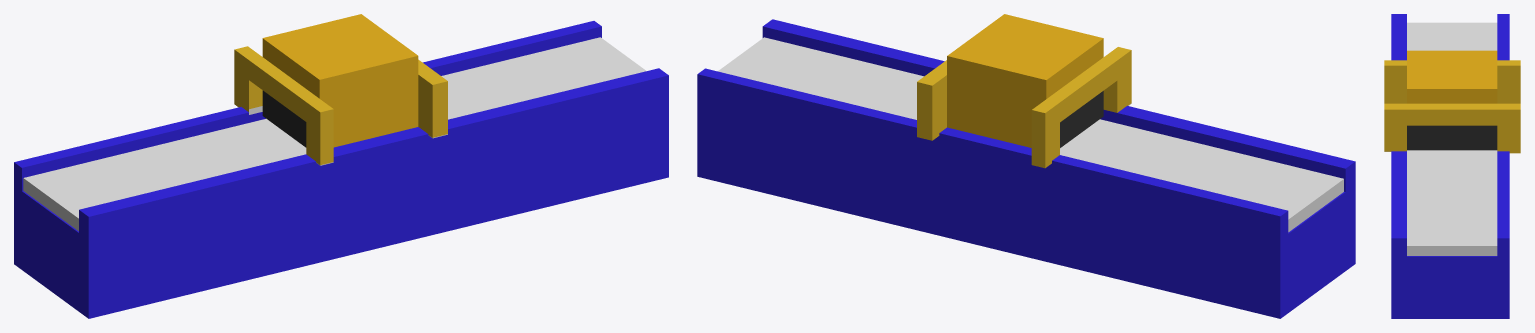
File: conveyorUAS.fbx
The picture shows the model from 3 angles, left to right: view 1: azimuth 30°, elevation 25°; view 2: azimuth 150°, elevation 25°; view 3: azimuth 270°, elevation 25°; orthographic projection. The views are drawn at different scales.
Visible parts, largest first — view 1: Body, Cube, Belt; view 2: Body, Cube, Belt; view 3: Cube, Belt, Body.
Part boxes in pixels (x1,y1,x2,y2): Body: (14,21,668,318); Cube: (234,14,447,165); Belt: (23,37,646,231); Body: (697,19,1355,318); Cube: (917,14,1131,168); Belt: (718,37,1343,232); Cube: (1384,50,1520,153); Belt: (1407,22,1497,255); Body: (1391,14,1509,318).
Size of the model in its own units: 1174 by 335 by 301.
